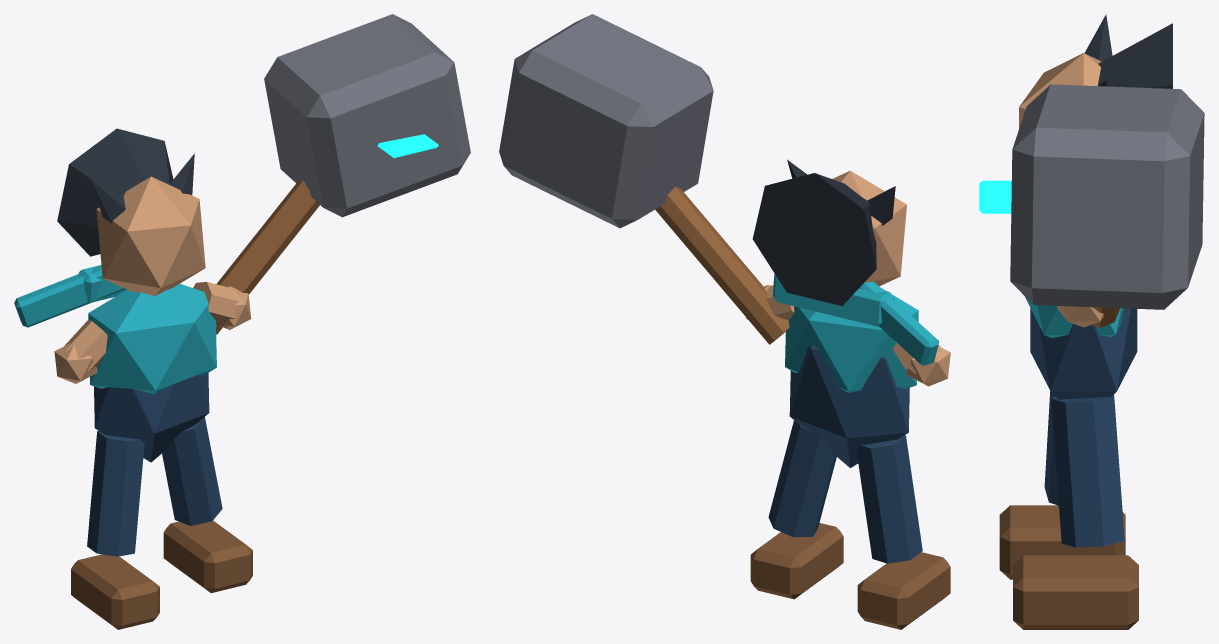
The model's file is hero_hammer_v1.glb.
3 renders of one model, left to right at view 1: azimuth 30°, elevation 25°; view 2: azimuth 150°, elevation 25°; view 3: azimuth 270°, elevation 25°, orthographic. The views are drawn at different scales.
Parts seen in each view (by area): view 1: Hammer_Head, Hero_Chest, Hero_Head, Hero_HairBack, Hero_Torso, Hero_Leg_L, Hero_Boot_L, Hero_Boot_R, Hero_Leg_R, Hammer_Handle, Hero_ScarfTail, Hero_Arm_L (+5 smaller); view 2: Hammer_Head, Hero_HairBack, Hero_Torso, Hero_Chest, Hero_Leg_L, Hammer_Handle, Hero_Leg_R, Hero_Boot_L, Hero_Boot_R, Hero_Head, Hero_ScarfTail, Hero_Scarf (+2 smaller); view 3: Hammer_Head, Hero_Leg_R, Hero_Boot_R, Hero_Torso, Hero_Boot_L, Hero_HairBack, Hero_Head, Hero_Chest, Hammer_Rune, Hero_Leg_L, Hero_HairSpike_-1, Hero_Hand_R (+1 smaller).
Boxes of the visible parts, box(x1,y1,x2,y2) form: Hammer_Head: box(264, 14, 470, 217); Hero_Chest: box(88, 284, 216, 394); Hero_Head: box(96, 176, 205, 296); Hero_HairBack: box(57, 128, 173, 256); Hero_Torso: box(94, 373, 209, 462); Hero_Leg_L: box(87, 430, 144, 556); Hero_Boot_L: box(71, 554, 159, 629); Hero_Boot_R: box(163, 520, 252, 593); Hero_Leg_R: box(162, 417, 222, 525); Hammer_Handle: box(216, 179, 319, 334); Hero_ScarfTail: box(14, 265, 125, 327); Hero_Arm_L: box(64, 320, 107, 371); Hammer_Head: box(499, 14, 713, 228); Hero_HairBack: box(752, 173, 876, 305); Hero_Torso: box(789, 345, 909, 467); Hero_Chest: box(785, 287, 918, 392); Hero_Leg_L: box(856, 435, 922, 563); Hammer_Handle: box(655, 187, 789, 344); Hero_Leg_R: box(768, 420, 836, 537); Hero_Boot_L: box(857, 552, 950, 629); Hero_Boot_R: box(750, 523, 843, 599); Hero_Head: box(832, 170, 906, 286); Hero_ScarfTail: box(859, 281, 938, 365); Hero_Scarf: box(772, 274, 894, 326); Hammer_Head: box(1010, 84, 1204, 309); Hero_Leg_R: box(1051, 395, 1124, 547); Hero_Boot_R: box(1013, 555, 1138, 629); Hero_Torso: box(1030, 308, 1137, 399); Hero_Boot_L: box(999, 505, 1125, 579); Hero_HairBack: box(1097, 23, 1172, 88); Hero_Head: box(1019, 53, 1101, 128); Hero_Chest: box(1025, 297, 1124, 338); Hammer_Rune: box(979, 180, 1011, 213); Hero_Leg_L: box(1044, 391, 1058, 505); Hero_HairSpike_-1: box(1084, 14, 1112, 61); Hero_Hand_R: box(1057, 306, 1104, 327).
Size of the model in its own units: 4.78 by 5.36 by 1.72.
